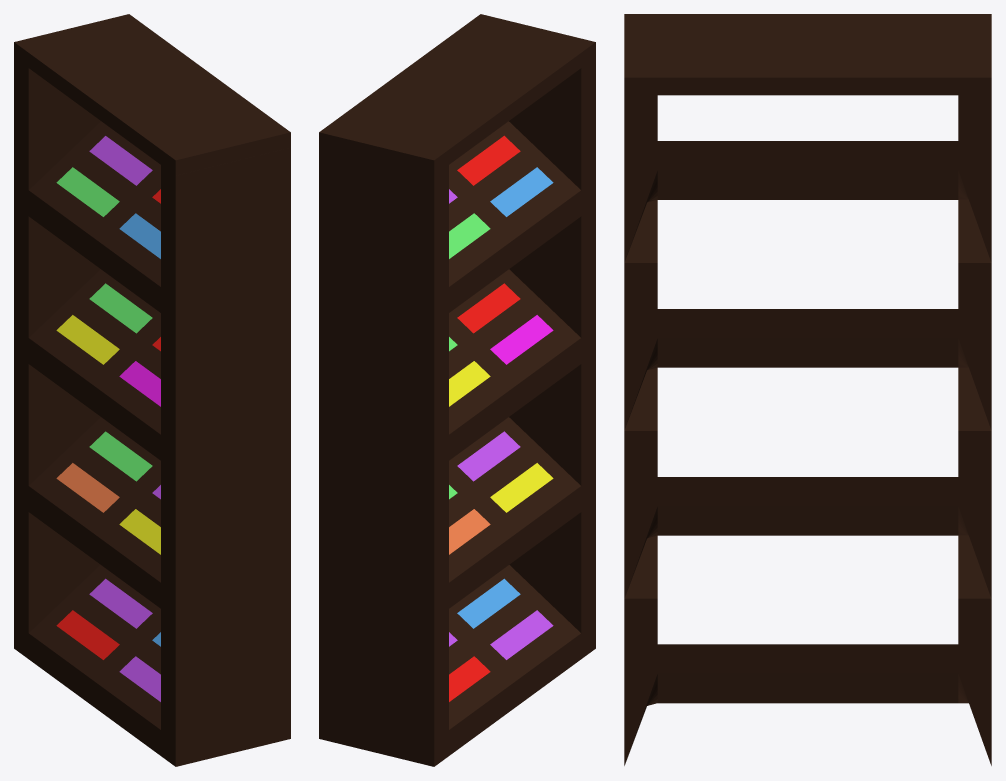
The model's file is Etagere.fbx.
3 views of the same model, side by side, from view 1: azimuth 30°, elevation 25°; view 2: azimuth 150°, elevation 25°; view 3: azimuth 270°, elevation 25° (orthographic). The views are drawn at different scales.
Visible parts, largest first — view 1: Cube; view 2: Cube; view 3: Cube.
Part boxes in pixels (x1,y1,x2,y2): Cube: (14, 14, 290, 766); Cube: (319, 14, 595, 766); Cube: (624, 14, 991, 765).
Size of the model in its own units: 146 by 734 by 354.
